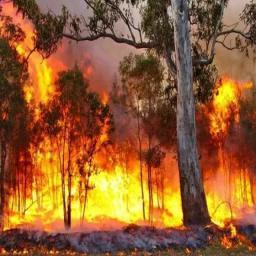Medium fire: (0, 59, 255, 234)
